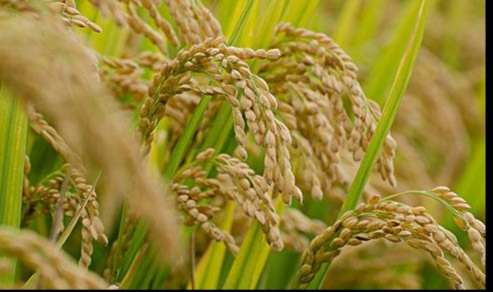rice: (133, 33, 302, 190), (297, 183, 484, 286), (140, 148, 288, 262)
